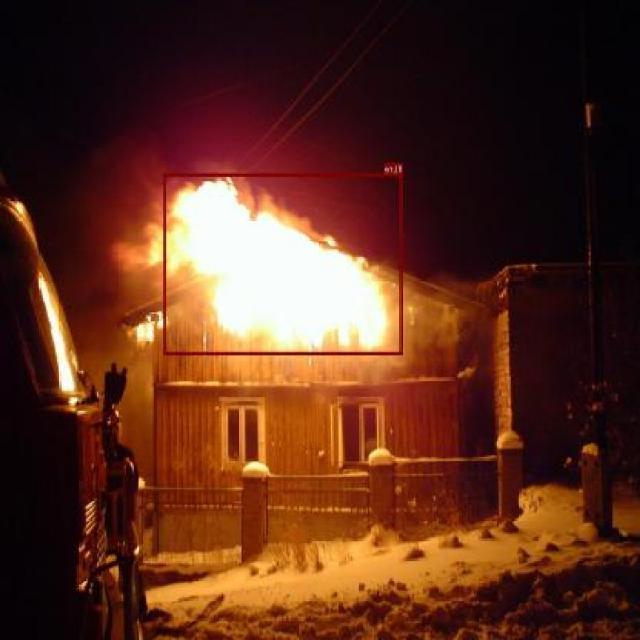Fire: (164, 173, 404, 354)
